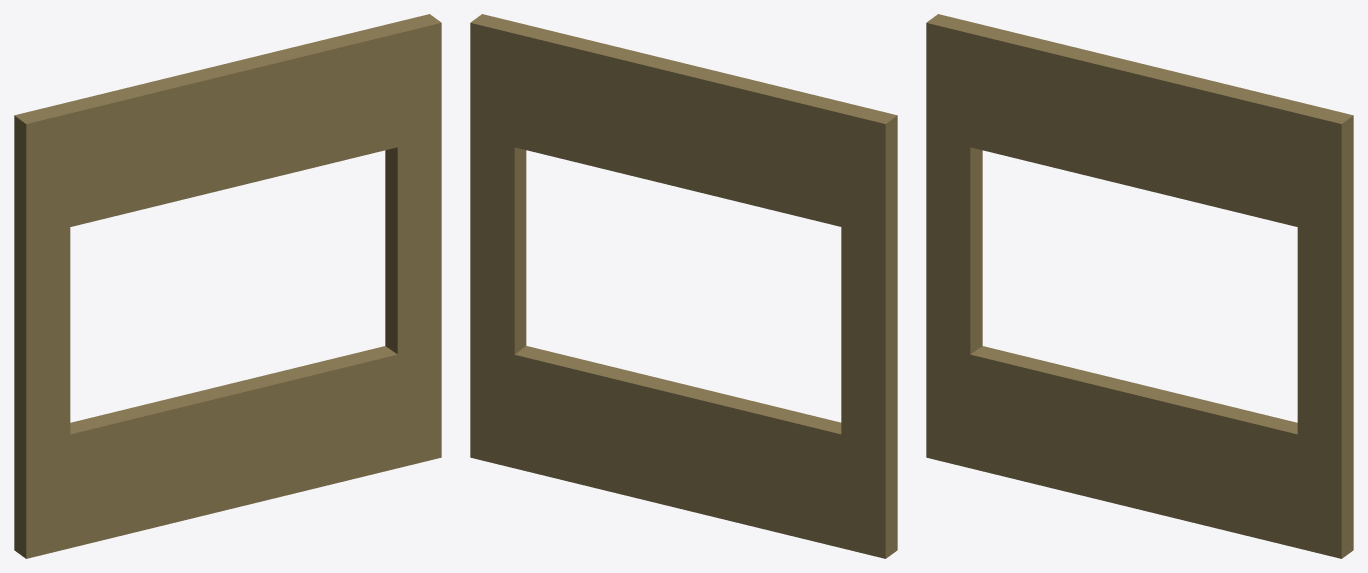
File: MOD_Double_Window.fbx
3 views of the same model, side by side, from view 1: azimuth 30°, elevation 25°; view 2: azimuth 150°, elevation 25°; view 3: azimuth 330°, elevation 25° (orthographic).
Parts seen in each view (by area): view 1: Wall Window Wide. 1; view 2: Wall Window Wide. 1; view 3: Wall Window Wide. 1.
Part boxes in pixels (x1,y1,x2,y2): Wall Window Wide. 1: (14, 14, 441, 558); Wall Window Wide. 1: (470, 14, 897, 558); Wall Window Wide. 1: (926, 14, 1353, 558).
Size of the model in its own units: 200 by 200 by 10.
